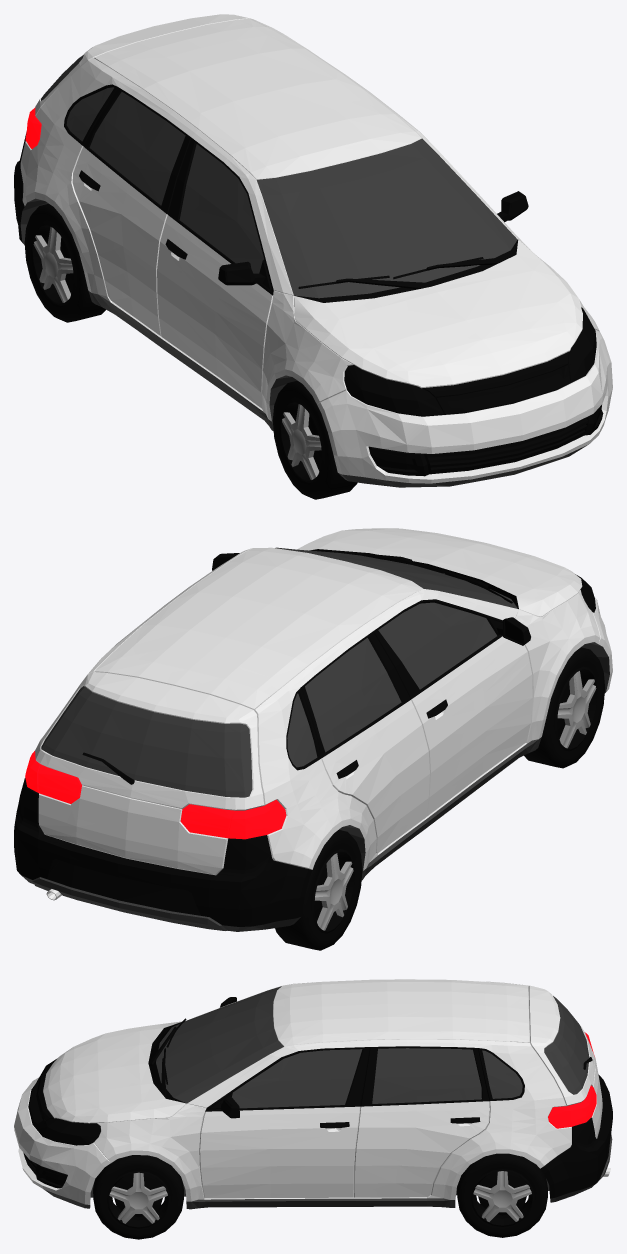
The model's file is AutoBlanco.fbx.
3 views of the same model, one above another, from view 1: azimuth 30°, elevation 25°; view 2: azimuth 150°, elevation 25°; view 3: azimuth 270°, elevation 25° (orthographic). The views are drawn at different scales.
Parts seen in each view (by area): view 1: Hatchback Body.005, Wheel_B002.005, Wheel_B003.005; view 2: Hatchback Body.005, Wheel_B003.005, Wheel_B002.005; view 3: Hatchback Body.005, Wheel_B.005, Wheel_B001.005.
Part boxes in pixels (x1,y1,x2,y2): Hatchback Body.005: [14, 14, 612, 487]; Wheel_B002.005: [272, 380, 357, 499]; Wheel_B003.005: [24, 203, 105, 322]; Hatchback Body.005: [14, 528, 612, 931]; Wheel_B003.005: [275, 830, 362, 950]; Wheel_B002.005: [524, 647, 604, 768]; Hatchback Body.005: [14, 979, 612, 1209]; Wheel_B.005: [93, 1155, 183, 1239]; Wheel_B001.005: [457, 1153, 547, 1237].
Size of the model in its own units: 196 by 152 by 445.
